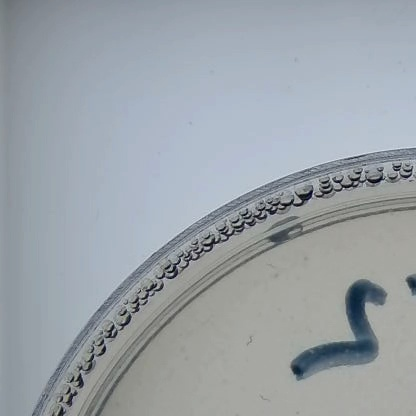worm: (255, 391, 273, 406), (245, 331, 257, 349), (264, 257, 277, 271)
